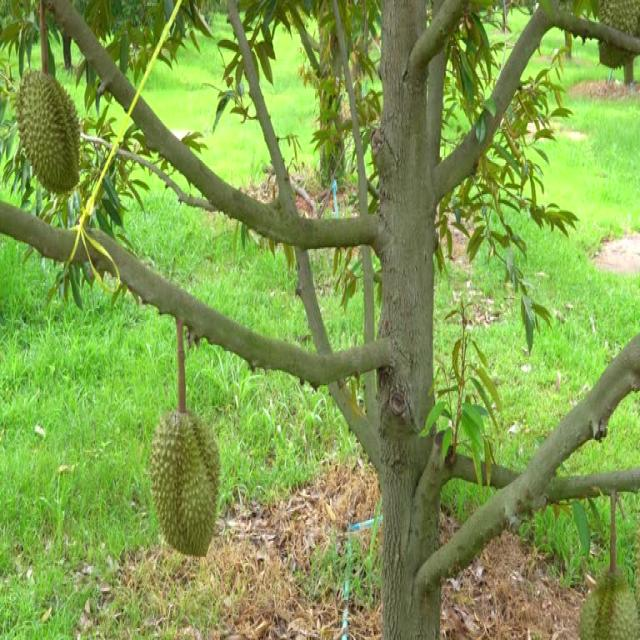immature: (148, 409, 222, 562), (12, 69, 82, 198)
